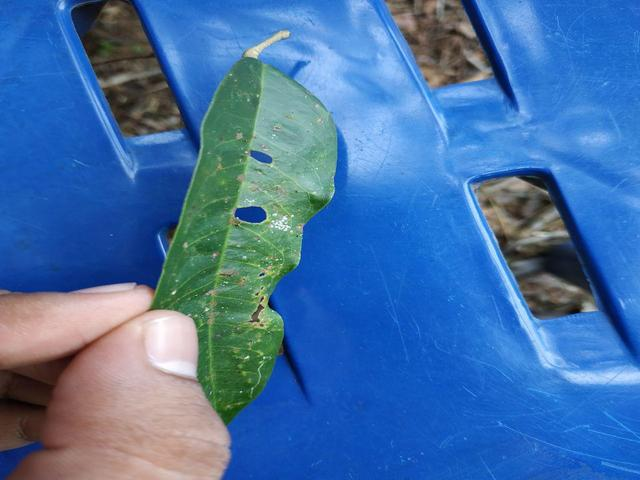blight spot: (228, 198, 274, 229), (243, 142, 276, 171)
